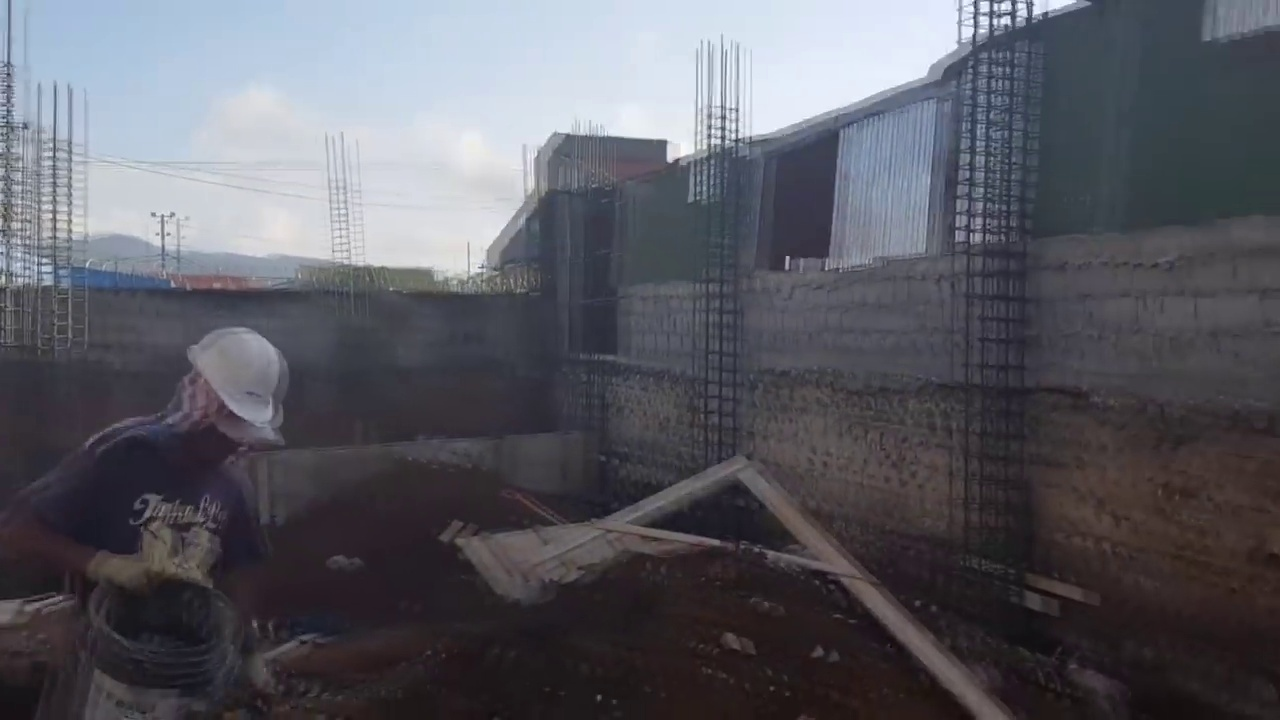helmet: (184, 327, 283, 429)
helmet-on: (161, 320, 277, 456)
person: (6, 322, 290, 716)
